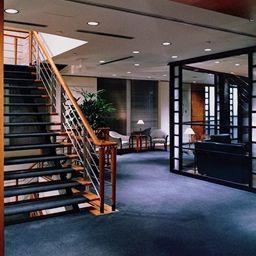Escaleras: (1, 26, 113, 218)
